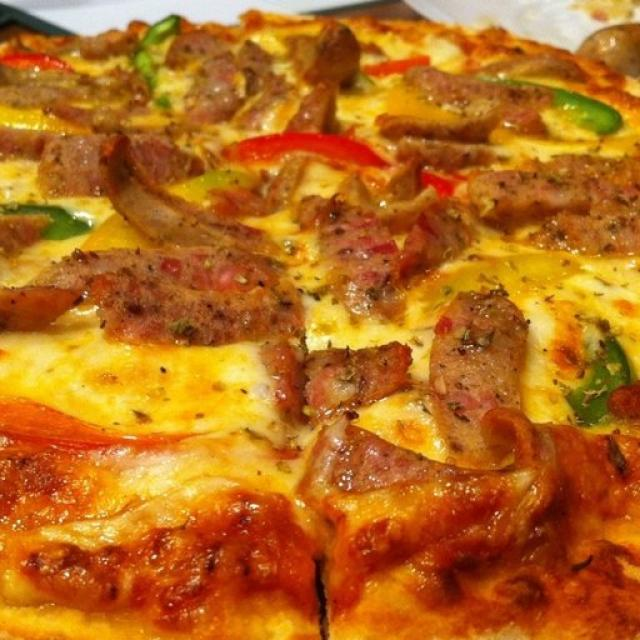Beef: (91, 243, 276, 350), (320, 427, 551, 512), (438, 290, 531, 474), (456, 161, 640, 248), (319, 188, 402, 298), (52, 131, 190, 187), (174, 41, 273, 112), (310, 334, 400, 412), (424, 71, 519, 127), (296, 22, 366, 77)
Green Pepper: (480, 74, 627, 138), (126, 17, 191, 102), (571, 338, 640, 414), (0, 189, 88, 245)
Pizza: (1, 10, 640, 640)
Red Pepper: (0, 396, 311, 473), (223, 138, 464, 194), (6, 43, 87, 77), (362, 54, 432, 86)
